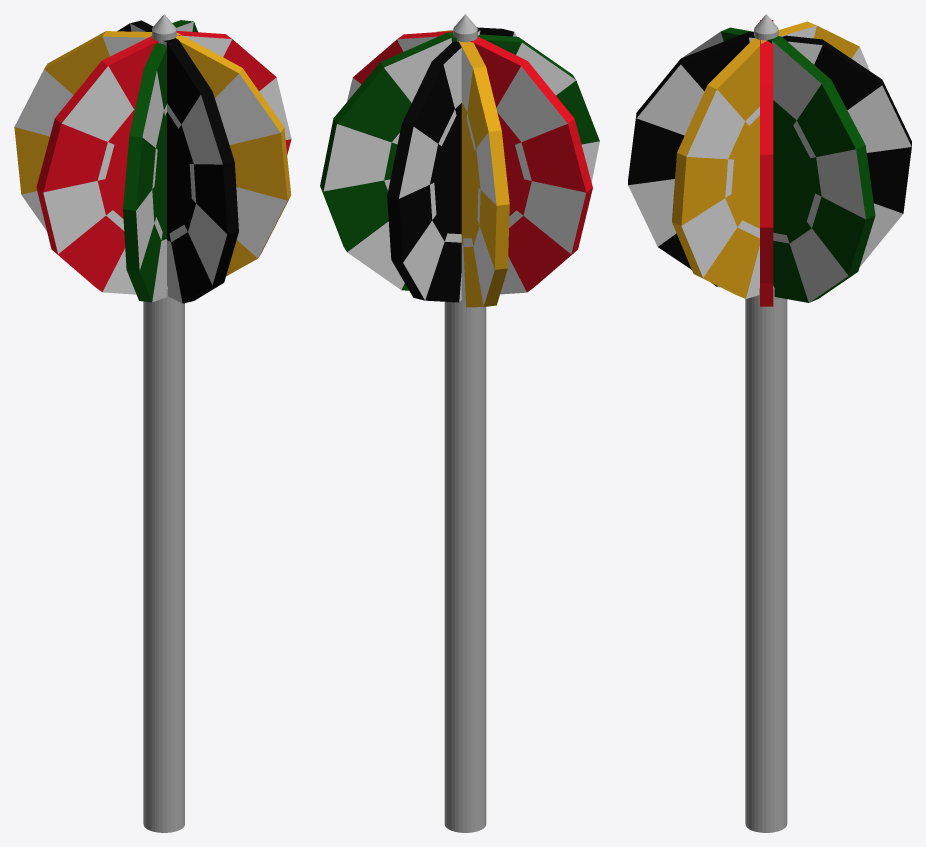
The model's file is Chip Mace.glb.
The picture shows the model from 3 angles, left to right: view 1: azimuth 30°, elevation 25°; view 2: azimuth 150°, elevation 25°; view 3: azimuth 270°, elevation 25°; orthographic projection.
Visible parts, largest first — view 1: Chip Mace; view 2: Chip Mace; view 3: Chip Mace.
Part boxes in pixels (x1,y1,x2,y2): Chip Mace: [14, 14, 291, 832]; Chip Mace: [320, 14, 599, 832]; Chip Mace: [628, 14, 911, 832].
Size of the model in its own units: 0.4369 by 1.36 by 0.4323.
